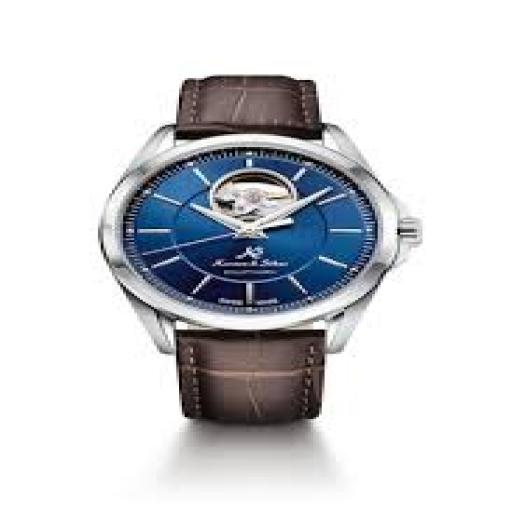KolSaati: (78, 38, 418, 478)
